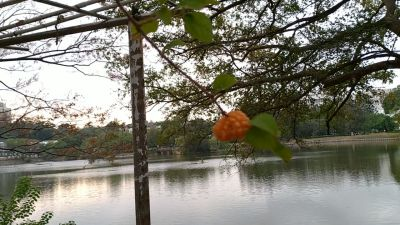eggs: (212, 108, 252, 142)
